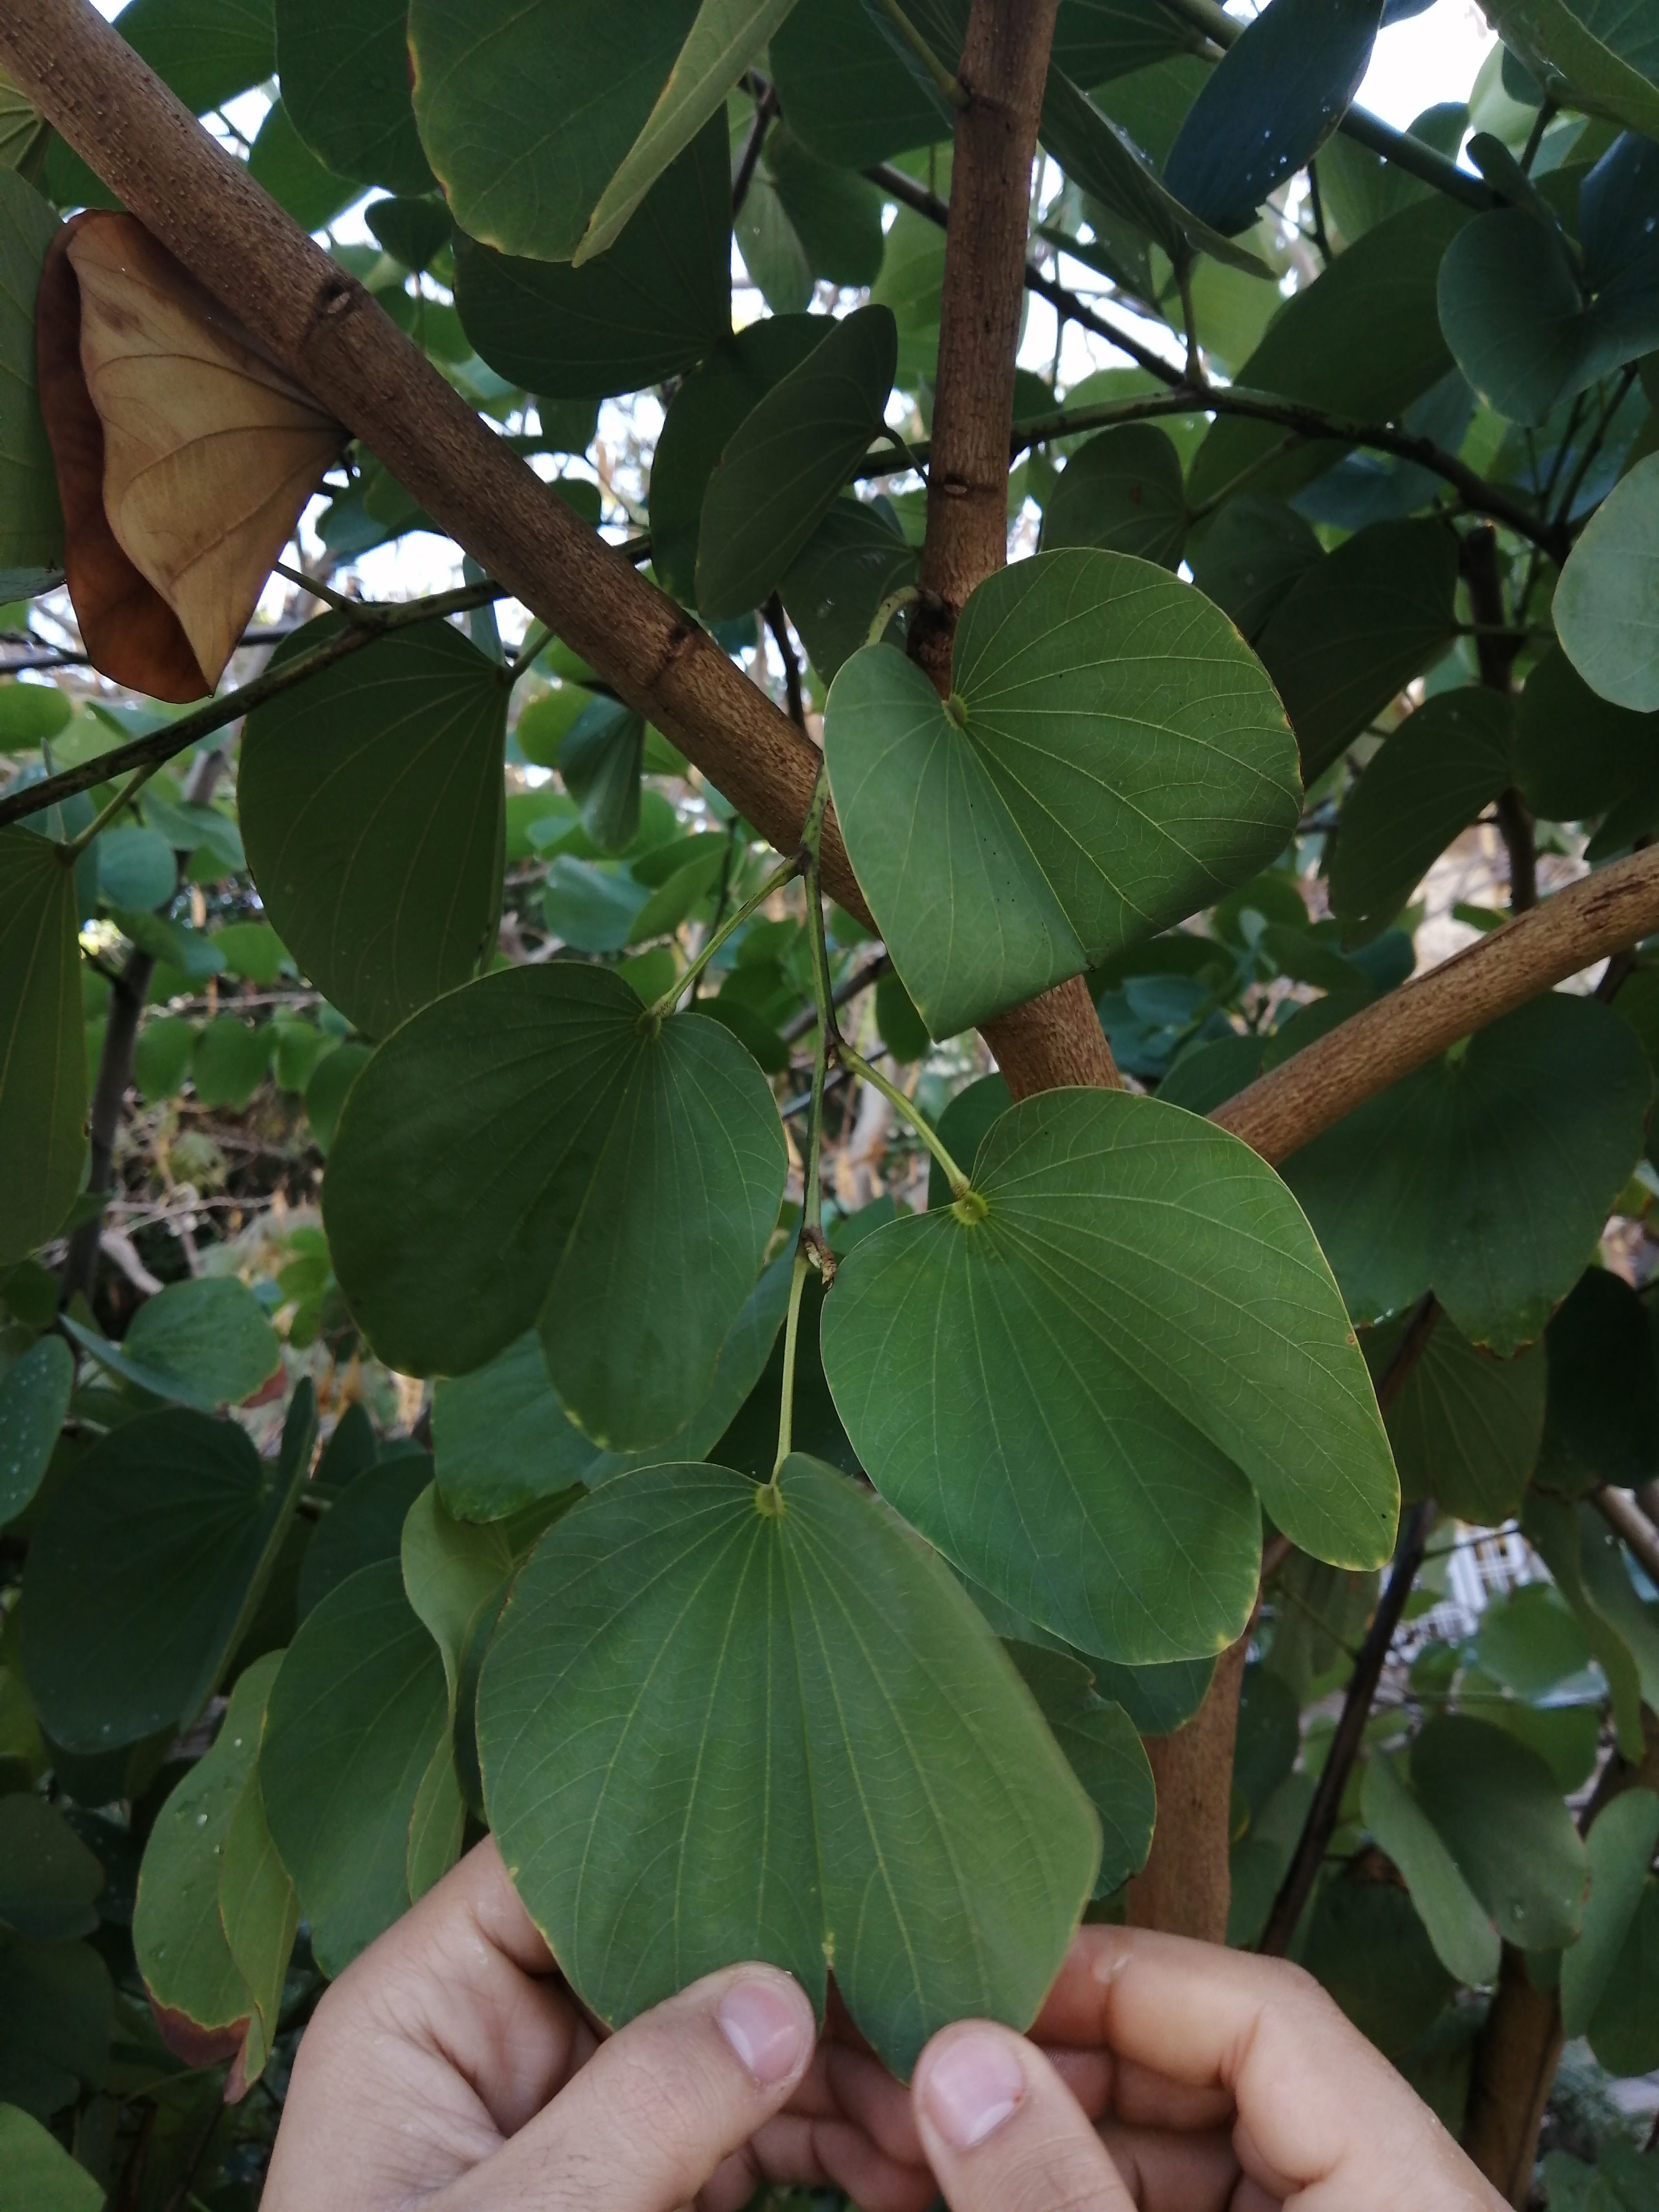healthy: (441, 1501, 1101, 1994), (826, 1029, 1375, 1618), (779, 536, 1399, 1017), (295, 991, 838, 1454)
